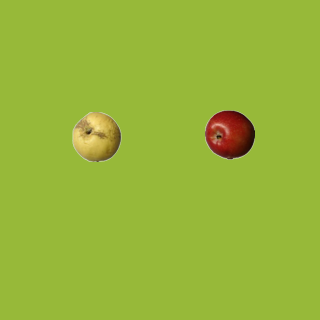Apple Braeburn: (204, 109, 254, 159)
Apple Golden 1: (71, 111, 121, 161)
